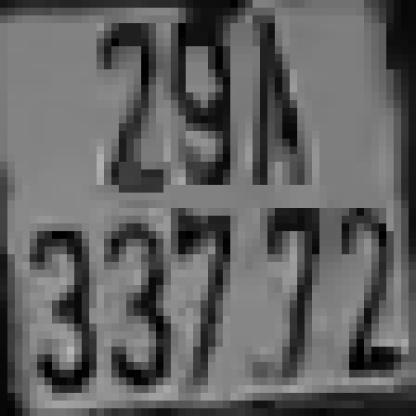2: (89, 23, 164, 200), (327, 208, 394, 370)
3: (104, 216, 178, 378), (29, 223, 96, 393)
7: (252, 208, 320, 370), (171, 208, 230, 377)
9: (171, 23, 230, 185)
A: (245, 16, 305, 192)
